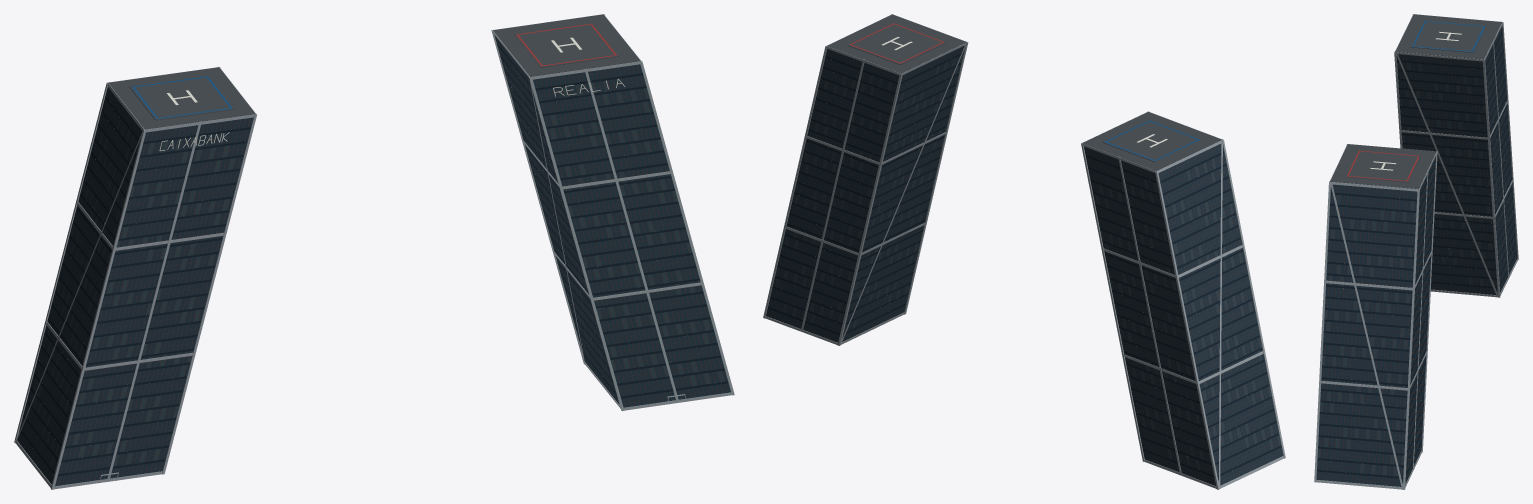
Rendered from puerta-de-europa-near.glb.
3 views of the same model, side by side, from view 1: azimuth 30°, elevation 25°; view 2: azimuth 150°, elevation 25°; view 3: azimuth 270°, elevation 25° (orthographic). The views are drawn at different scales.
Parts seen in each view (by area): view 1: puerta-de-europa-0-glass, puerta-de-europa-0-mullion, puerta-de-europa-0-spandrel, puerta-de-europa-0-metal, puerta-de-europa-0-light, puerta-de-europa-0-roof; view 2: puerta-de-europa-0-glass, puerta-de-europa-0-mullion, puerta-de-europa-0-spandrel, puerta-de-europa-0-metal, puerta-de-europa-0-light, puerta-de-europa-0-roof; view 3: puerta-de-europa-0-glass, puerta-de-europa-0-mullion, puerta-de-europa-0-spandrel, puerta-de-europa-0-metal, puerta-de-europa-0-roof, puerta-de-europa-0-light, puerta-de-europa-0-red, puerta-de-europa-0-blue.
Boxes of the visible parts, left/top/right/bottom form: puerta-de-europa-0-glass: left=17, top=35, right=730, bottom=486; puerta-de-europa-0-mullion: left=18, top=38, right=729, bottom=485; puerta-de-europa-0-spandrel: left=19, top=43, right=728, bottom=476; puerta-de-europa-0-metal: left=14, top=14, right=734, bottom=489; puerta-de-europa-0-light: left=20, top=61, right=724, bottom=472; puerta-de-europa-0-roof: left=108, top=14, right=640, bottom=129; puerta-de-europa-0-glass: left=766, top=45, right=1282, bottom=485; puerta-de-europa-0-mullion: left=767, top=47, right=1282, bottom=485; puerta-de-europa-0-spandrel: left=767, top=42, right=1281, bottom=477; puerta-de-europa-0-metal: left=763, top=14, right=1285, bottom=489; puerta-de-europa-0-light: left=775, top=54, right=1280, bottom=475; puerta-de-europa-0-roof: left=827, top=14, right=1221, bottom=170; puerta-de-europa-0-glass: left=1316, top=26, right=1517, bottom=486; puerta-de-europa-0-mullion: left=1317, top=26, right=1516, bottom=486; puerta-de-europa-0-spandrel: left=1317, top=23, right=1516, bottom=478; puerta-de-europa-0-metal: left=1314, top=14, right=1518, bottom=489; puerta-de-europa-0-roof: left=1330, top=14, right=1501, bottom=188; puerta-de-europa-0-light: left=1317, top=34, right=1516, bottom=476; puerta-de-europa-0-red: left=1347, top=150, right=1419, bottom=181; puerta-de-europa-0-blue: left=1412, top=21, right=1484, bottom=51.
Bounding box in the file's own units: 218 × 115 × 79.04.
